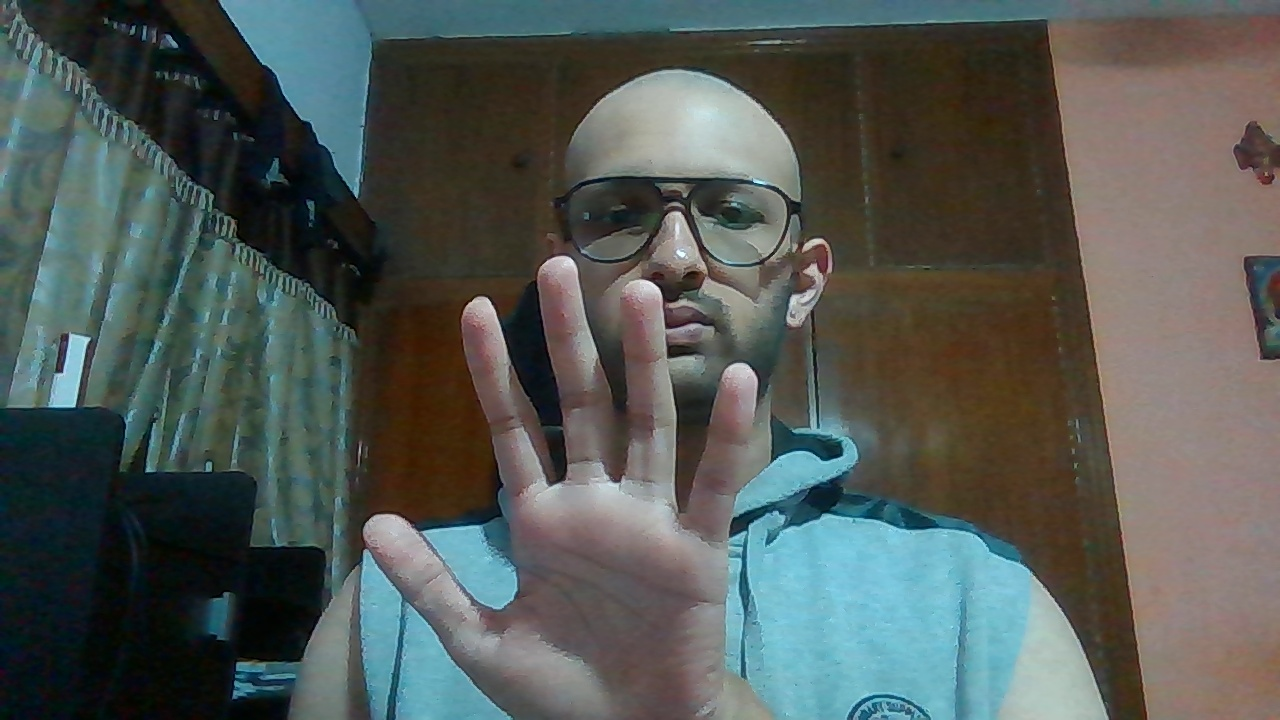Hello: (362, 252, 760, 720)
